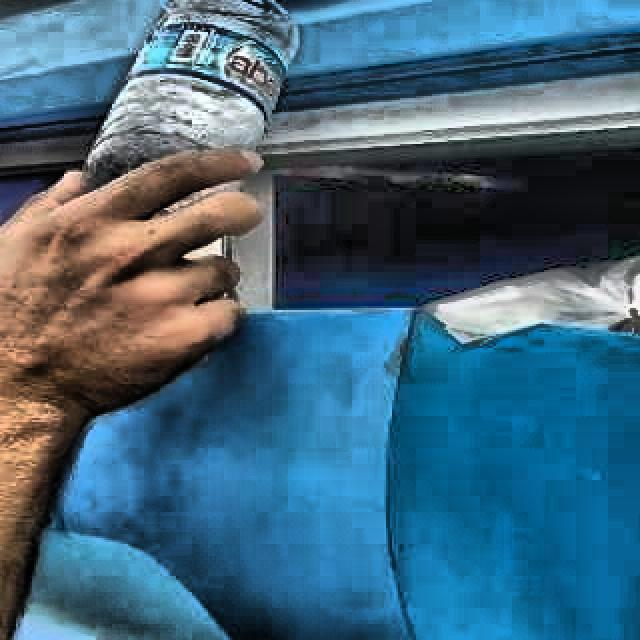plastic: (85, 0, 299, 180)
